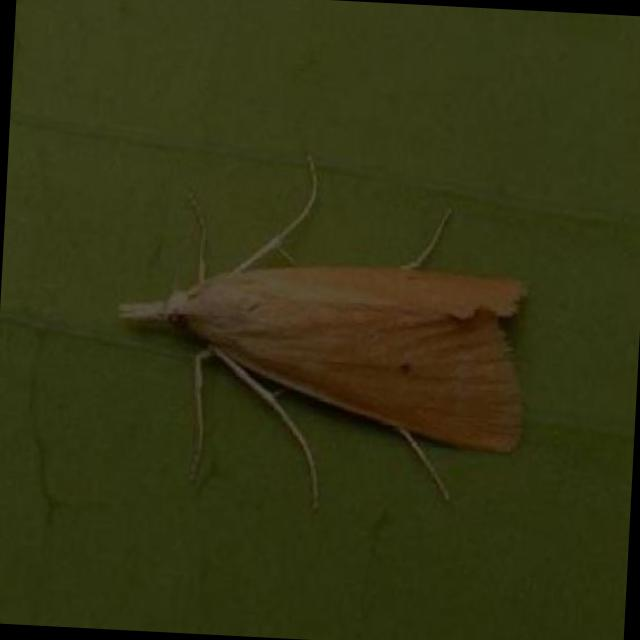stem-borer: (104, 227, 536, 476)
